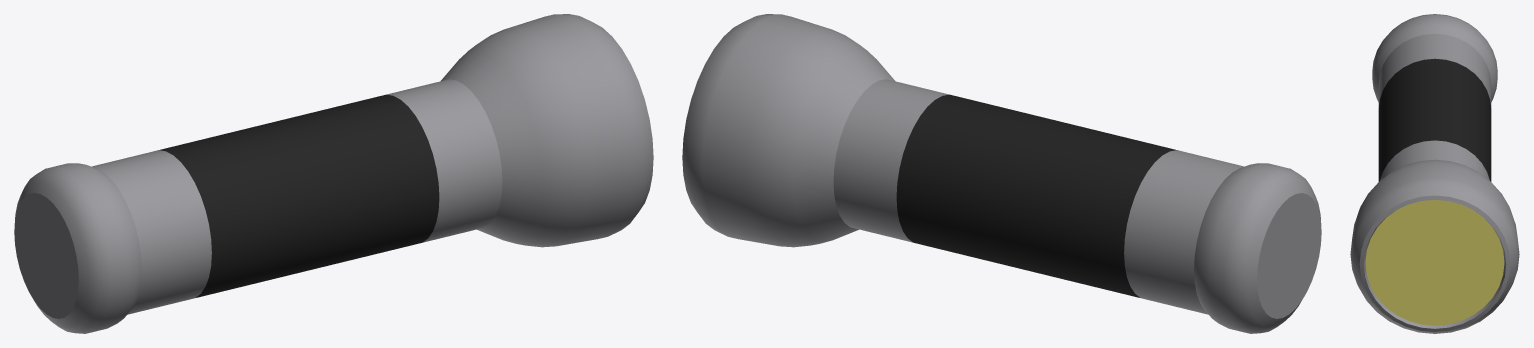
Rendered from flashlight.fbx.
3 views of the same model, side by side, from view 1: azimuth 30°, elevation 25°; view 2: azimuth 150°, elevation 25°; view 3: azimuth 270°, elevation 25° (orthographic). The views are drawn at different scales.
Visible parts, largest first — view 1: flashlight; view 2: flashlight; view 3: flashlight.
Boxes of the visible parts, left/top/right/bottom form: flashlight: left=14, top=14, right=653, bottom=333; flashlight: left=682, top=14, right=1321, bottom=333; flashlight: left=1350, top=14, right=1519, bottom=333.
Bounding box in the file's own units: 43.35 × 15.48 × 15.48.
